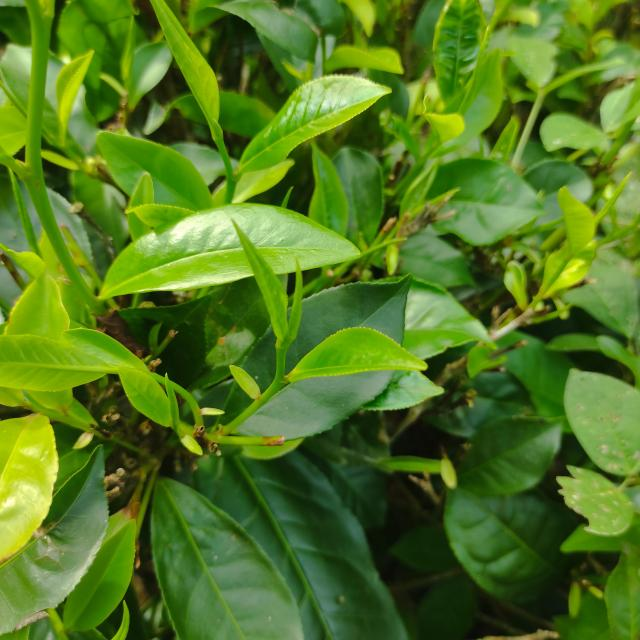unopened_leaf: (6, 163, 48, 271), (455, 20, 496, 119), (278, 250, 312, 351), (592, 163, 636, 224), (157, 366, 190, 444), (100, 594, 139, 640), (116, 14, 139, 87), (42, 590, 73, 640), (280, 183, 301, 208)
